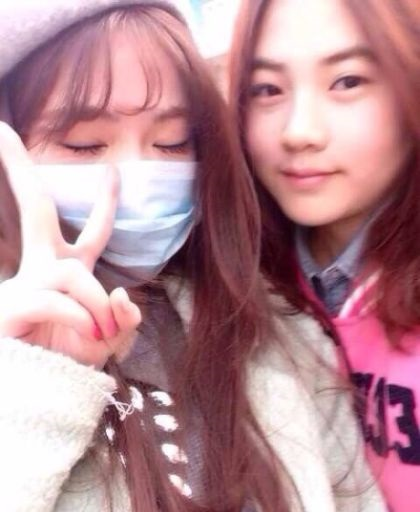face: (248, 1, 404, 224)
face_mask: (35, 37, 197, 276)
